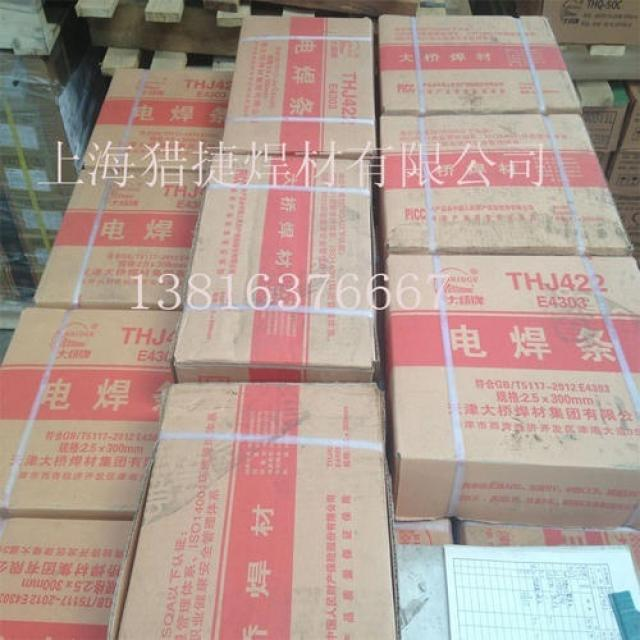box: (109, 383, 401, 640), (384, 257, 640, 530), (173, 154, 381, 381), (0, 308, 183, 520), (379, 115, 636, 256), (33, 170, 209, 308), (220, 15, 376, 159), (379, 14, 585, 115), (0, 520, 133, 639), (82, 70, 233, 172), (457, 526, 640, 580), (515, 0, 639, 45), (584, 83, 627, 154), (609, 155, 640, 200), (616, 197, 639, 257), (394, 522, 453, 544), (621, 83, 640, 148), (599, 152, 613, 174)
